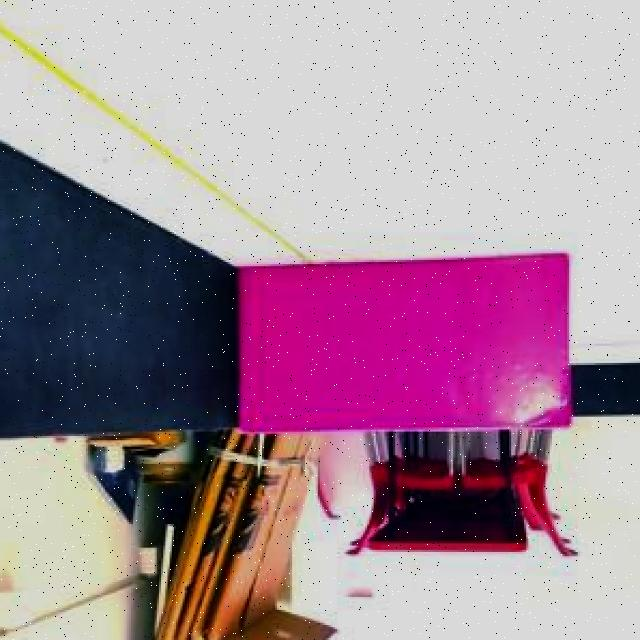xparking: (236, 255, 572, 432)
